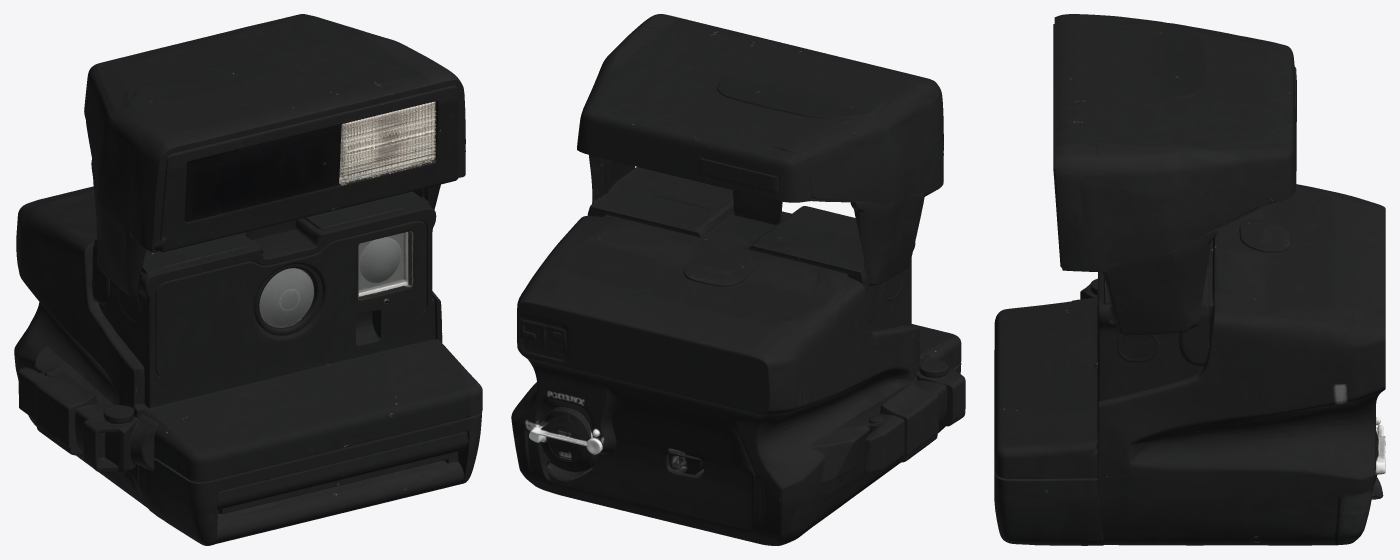
File: polaroid-636.glb
3 renders of one model, left to right at view 1: azimuth 30°, elevation 25°; view 2: azimuth 150°, elevation 25°; view 3: azimuth 270°, elevation 25°, orthographic. The views are drawn at different scales.
Bounding box in the file's own units: 1.81 × 1.9 × 1.68.
Materials: 1 (1 with a texture image).
